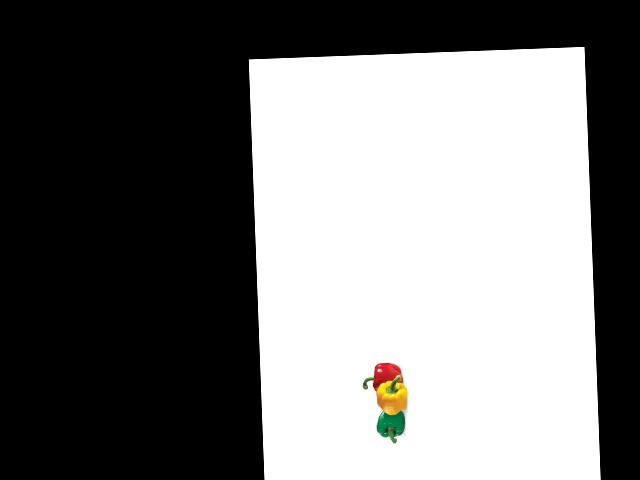bell_pepper: (373, 406, 408, 442)
